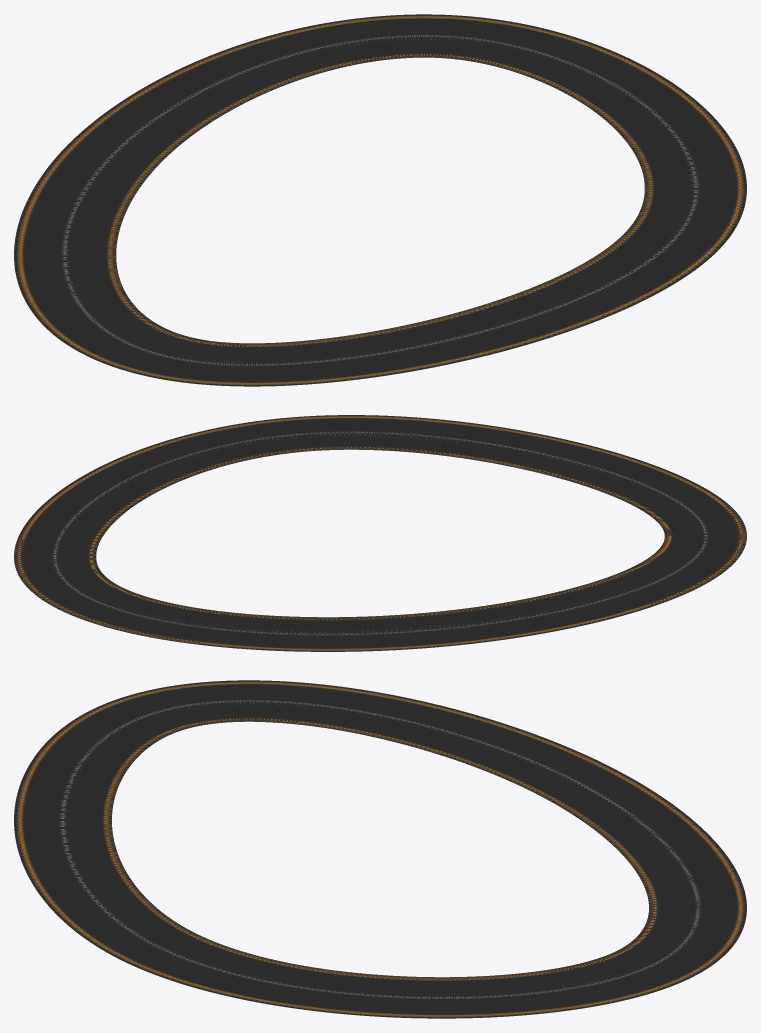
File: pista.obj
3 views of the same model, one above another, from view 1: azimuth 30°, elevation 25°; view 2: azimuth 150°, elevation 25°; view 3: azimuth 270°, elevation 25° (orthographic). The views are drawn at different scales.
Parts seen in each view (by area): view 1: road; view 2: road; view 3: road.
Part boxes in pixels (box(x1,y1,x2,y2)): road: box(14, 14, 746, 386); road: box(14, 415, 746, 651); road: box(14, 680, 746, 1018).
Bounding box in the file's own units: 0.817 × 0 × 0.7483.
